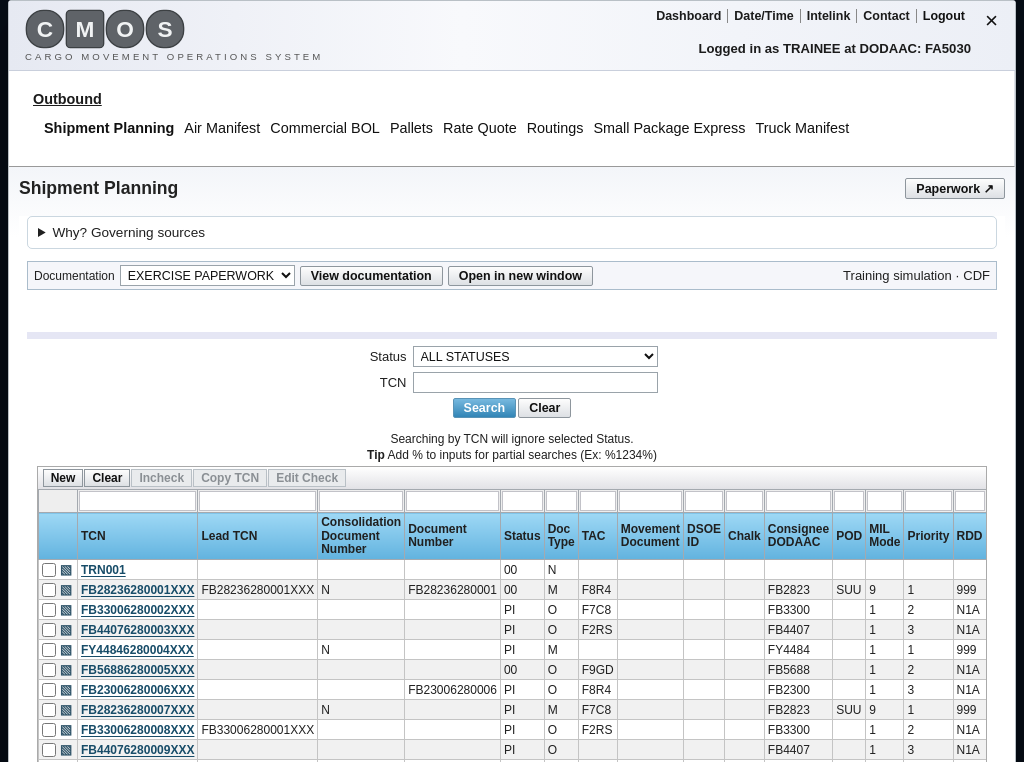
Test case: new piece Save and Close persists incomplete fields without blocking
Click the button named "Select TRN001" at (66, 569), box [58,562,74,577]
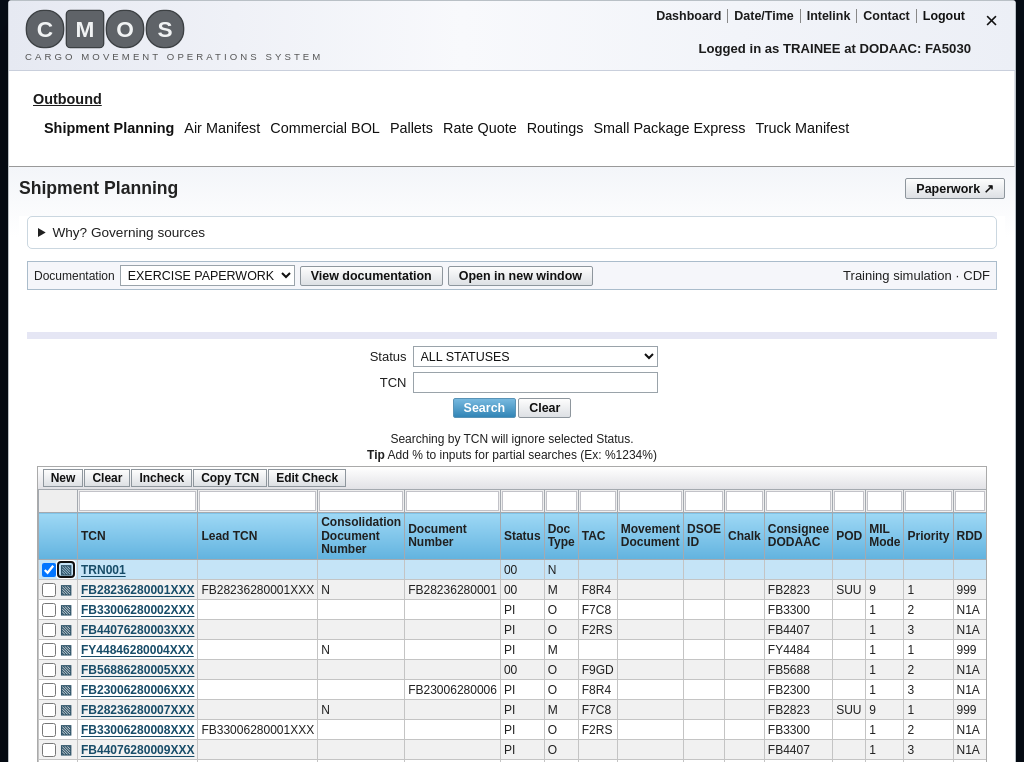
Click the button "Incheck" at (162, 478), box [131,470,192,488]
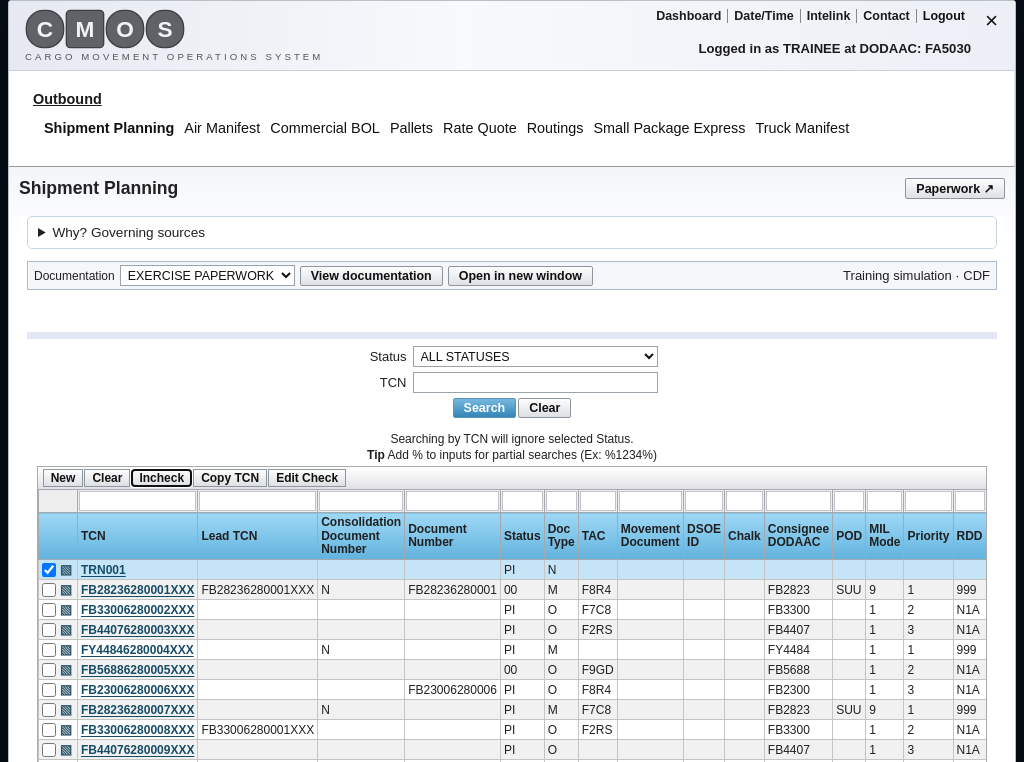
Click the button with aria-label "Open TCN " at (103, 570), box [81,562,126,576]
(page scrolled)
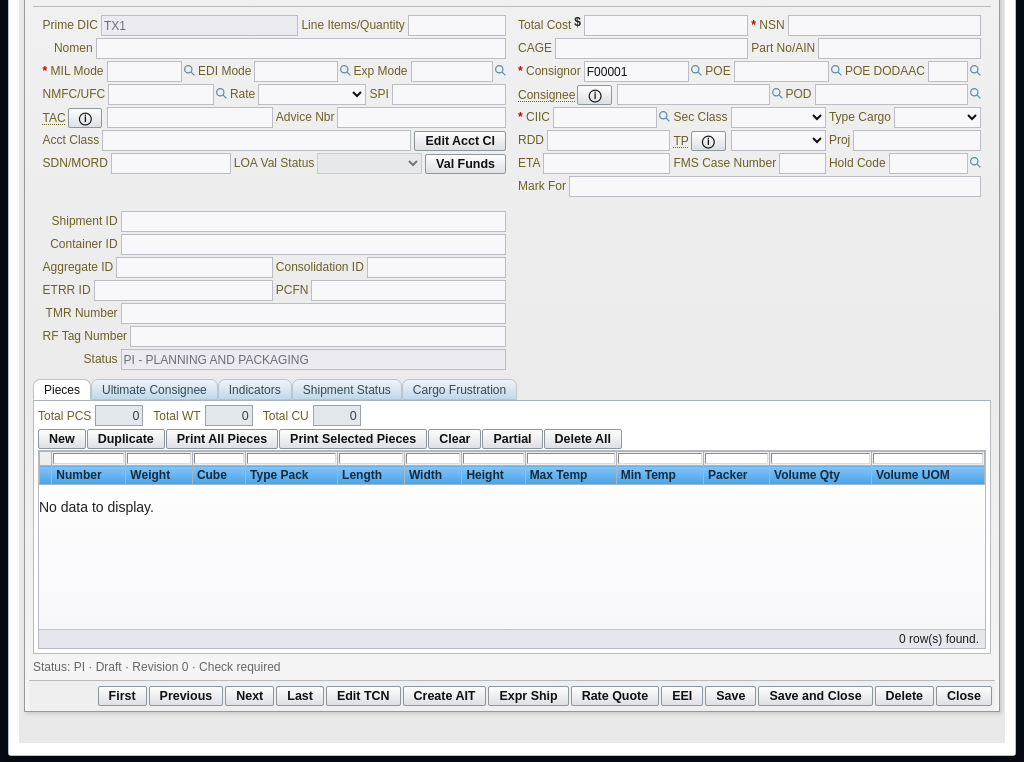
Click the button with aria-label "New piece" at (62, 439), box [38,429,86,449]
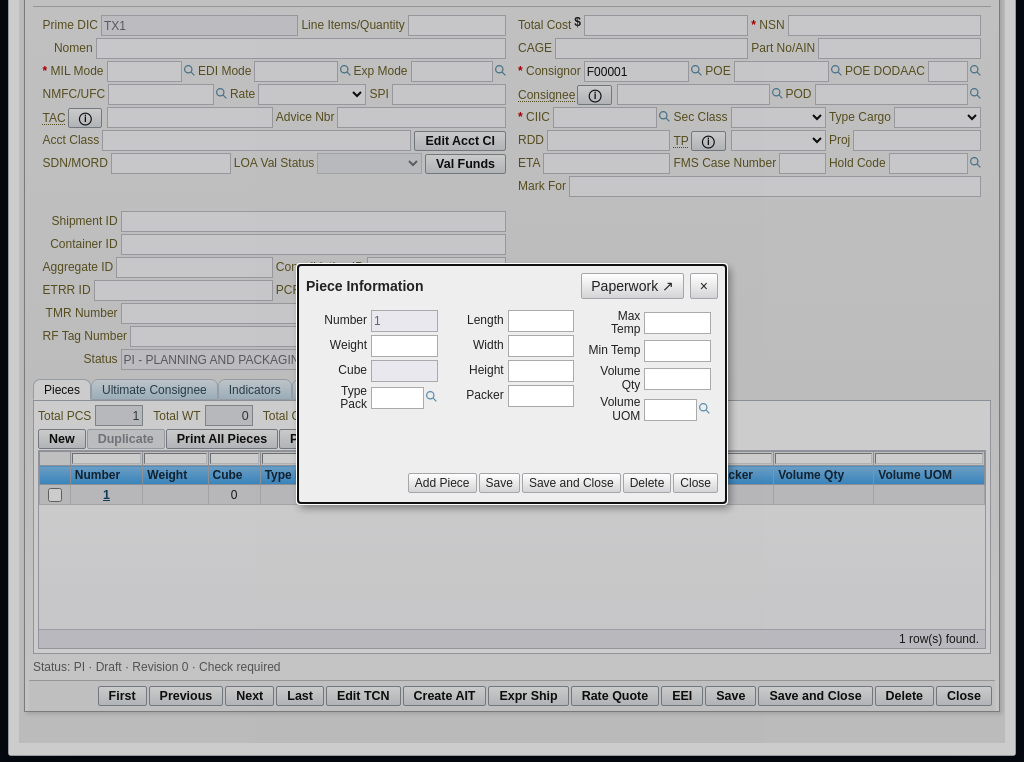
Type "unknown" into the field named "Weight" at (404, 346), box [371,335,438,357]
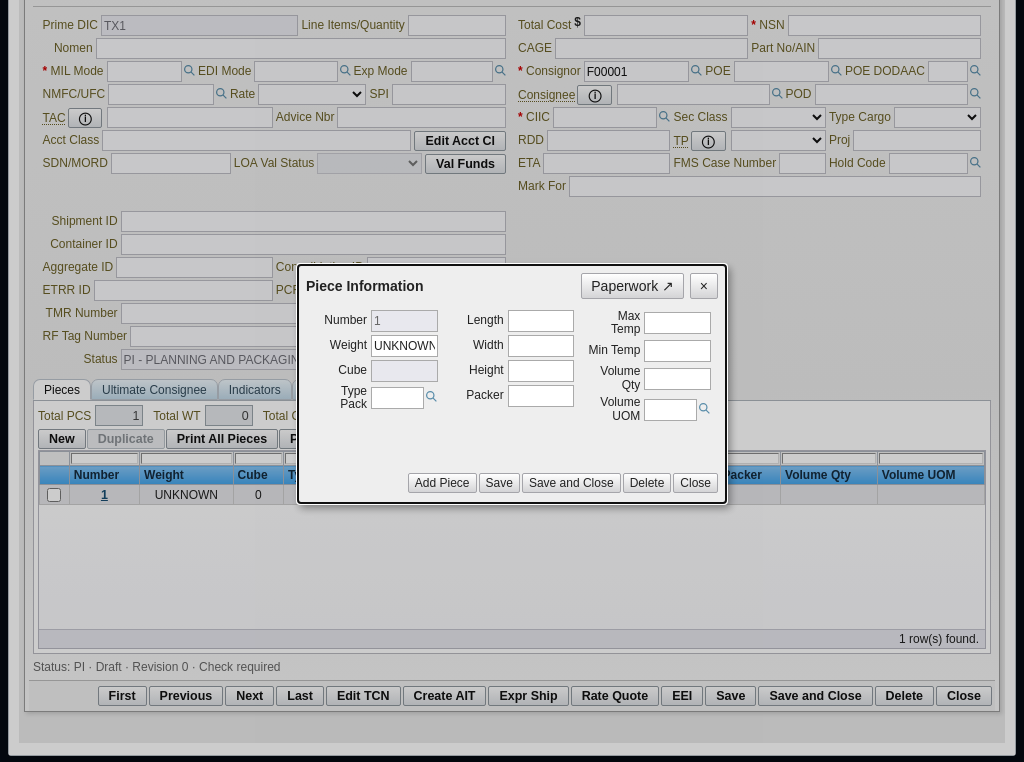
Click the button "Save and Close" at (571, 483), box [522,473,621,493]
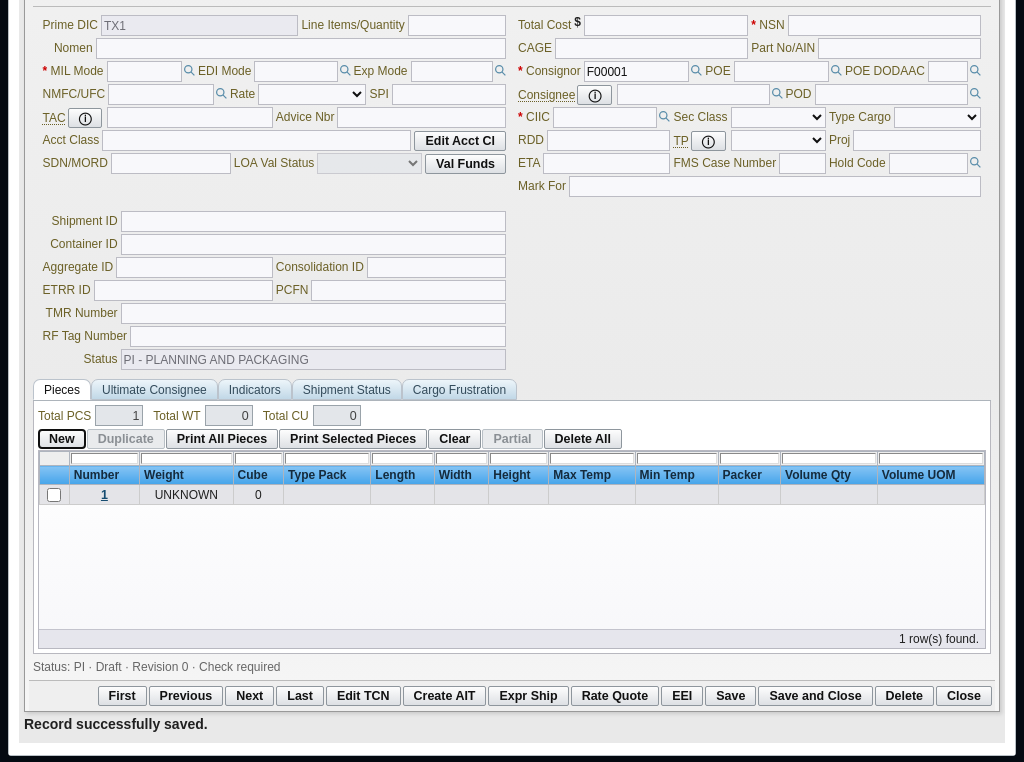
Check: the text "UNKNOWN" is shown, box [140,485,233,505]
Check: the heading "Piece Information" is gone
